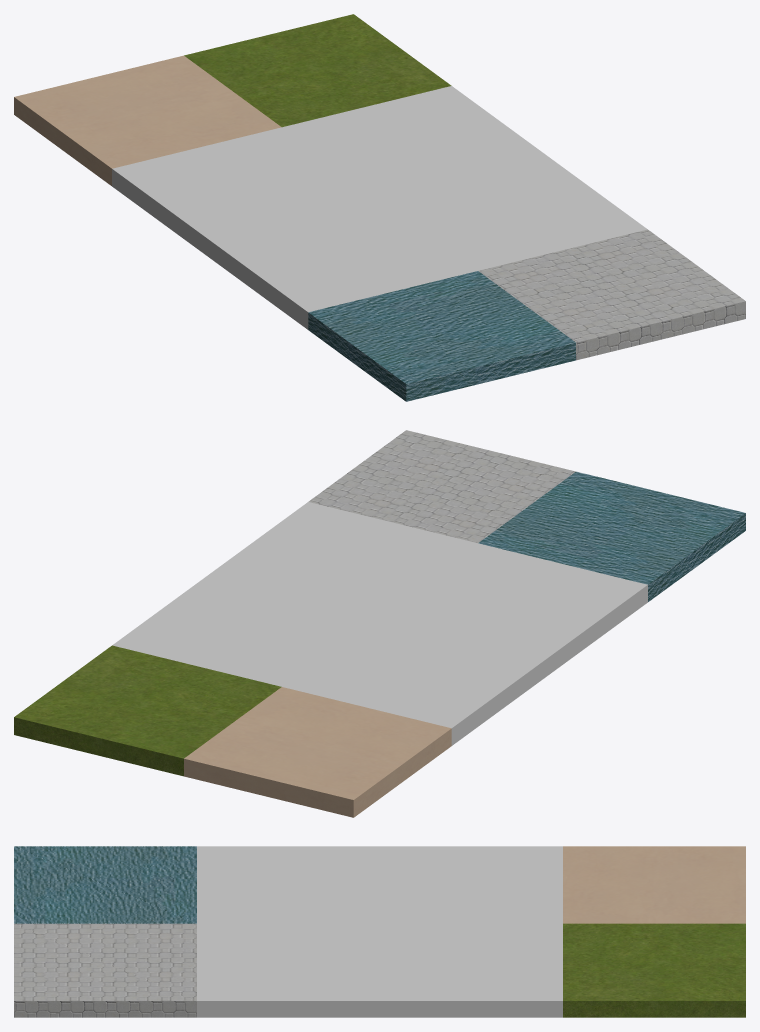
Rendered from levelTopo.FBX.
3 views of the same model, one above another, from view 1: azimuth 30°, elevation 25°; view 2: azimuth 150°, elevation 25°; view 3: azimuth 270°, elevation 25° (orthographic). The views are drawn at different scales.
Parts seen in each view (by area): view 1: Rectangle024, Rectangle020, Rectangle023, Rectangle022, Rectangle021, Rectangle017, Rectangle019, Rectangle018; view 2: Rectangle021, Rectangle017, Rectangle022, Rectangle023, Rectangle024, Rectangle018, Rectangle020, Rectangle019; view 3: Rectangle017, Rectangle018, Rectangle019, Rectangle020, Rectangle021, Rectangle022, Rectangle023, Rectangle024.
Boxes of the visible parts, bbox=[...] form: Rectangle024: bbox=[308, 271, 575, 401]; Rectangle020: bbox=[478, 229, 745, 360]; Rectangle023: bbox=[210, 199, 477, 329]; Rectangle022: bbox=[112, 127, 379, 257]; Rectangle021: bbox=[14, 55, 281, 185]; Rectangle017: bbox=[184, 14, 451, 127]; Rectangle019: bbox=[380, 157, 647, 270]; Rectangle018: bbox=[282, 86, 549, 198]; Rectangle021: bbox=[184, 687, 451, 817]; Rectangle017: bbox=[14, 645, 281, 776]; Rectangle022: bbox=[282, 615, 549, 745]; Rectangle023: bbox=[380, 543, 647, 673]; Rectangle024: bbox=[478, 471, 745, 601]; Rectangle018: bbox=[112, 573, 379, 686]; Rectangle020: bbox=[308, 430, 575, 543]; Rectangle019: bbox=[210, 502, 477, 614]; Rectangle017: bbox=[563, 923, 745, 1017]; Rectangle018: bbox=[380, 923, 562, 1017]; Rectangle019: bbox=[197, 923, 379, 1017]; Rectangle020: bbox=[14, 923, 196, 1017]; Rectangle021: bbox=[563, 846, 745, 923]; Rectangle022: bbox=[380, 846, 562, 923]; Rectangle023: bbox=[197, 846, 379, 923]; Rectangle024: bbox=[14, 846, 196, 923].
Bounding box in the file's own units: 12.19 × 24.38 × 0.6096.
